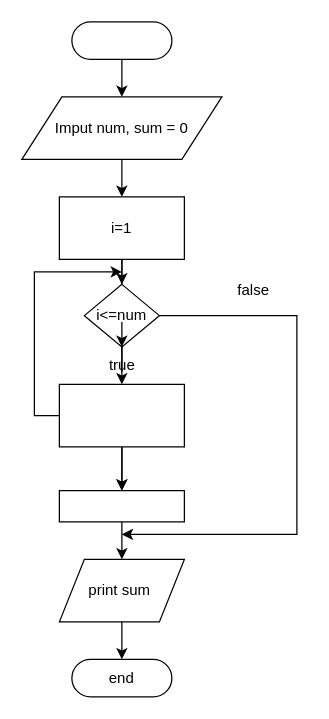
The diagram is 329 pixels wide and 719 high, and some of its shapes have lost their labels. The centre of each missing label's shape, as x and y in pixels:
"i++" goes at point 121,505.
"start" goes at point 121,40.
"sum+=(pow(i,2))" goes at point 121,415.
